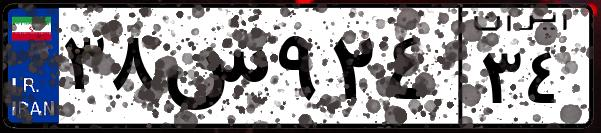2: (330, 28, 385, 110)
3: (57, 26, 110, 100), (475, 38, 525, 113)
4: (385, 28, 445, 110), (525, 38, 570, 115)
8: (110, 28, 158, 98)
9: (270, 28, 330, 110)
س: (158, 20, 270, 120)
